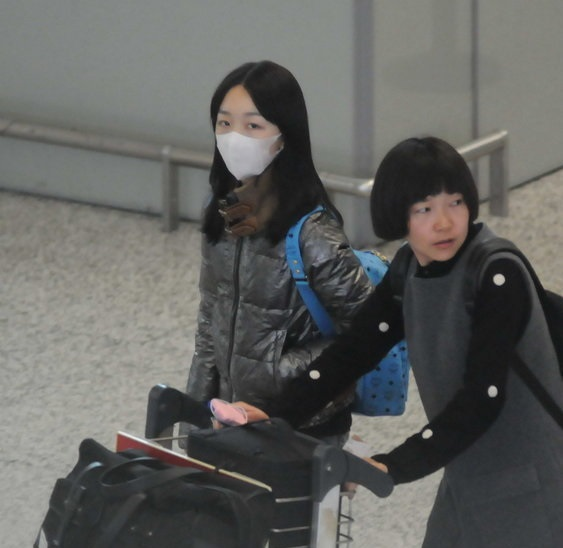face: (214, 94, 273, 180)
face_mask: (405, 180, 469, 260)
